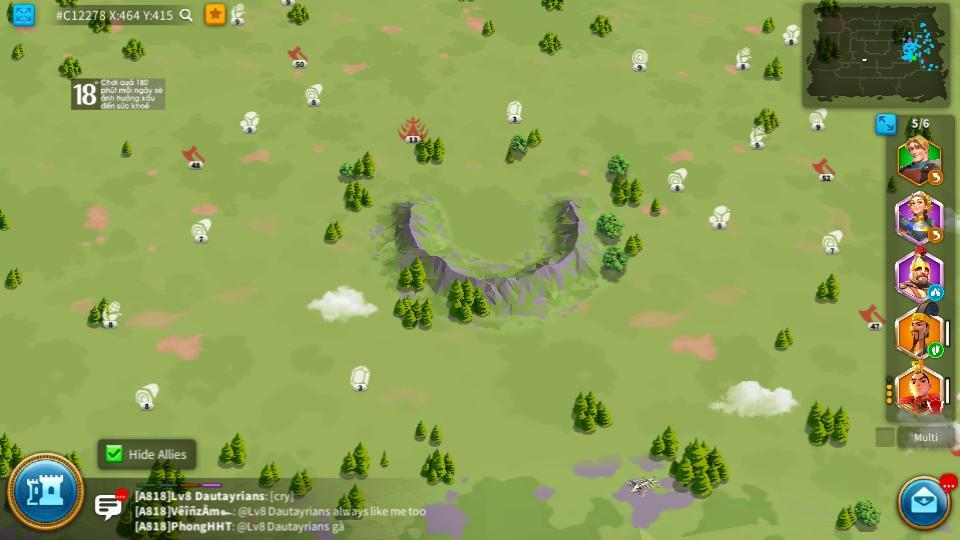gem-z-out: (348, 364, 371, 391)
march_attacking: (927, 403, 945, 415)
march_idle: (929, 284, 942, 297)
march_marching: (928, 345, 942, 358)
march_returning: (927, 170, 944, 185), (928, 229, 942, 242)
